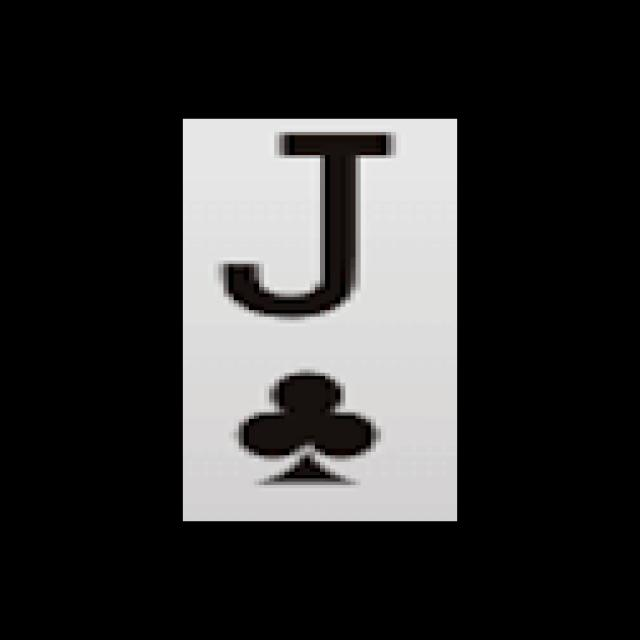JC: (197, 124, 416, 502)
